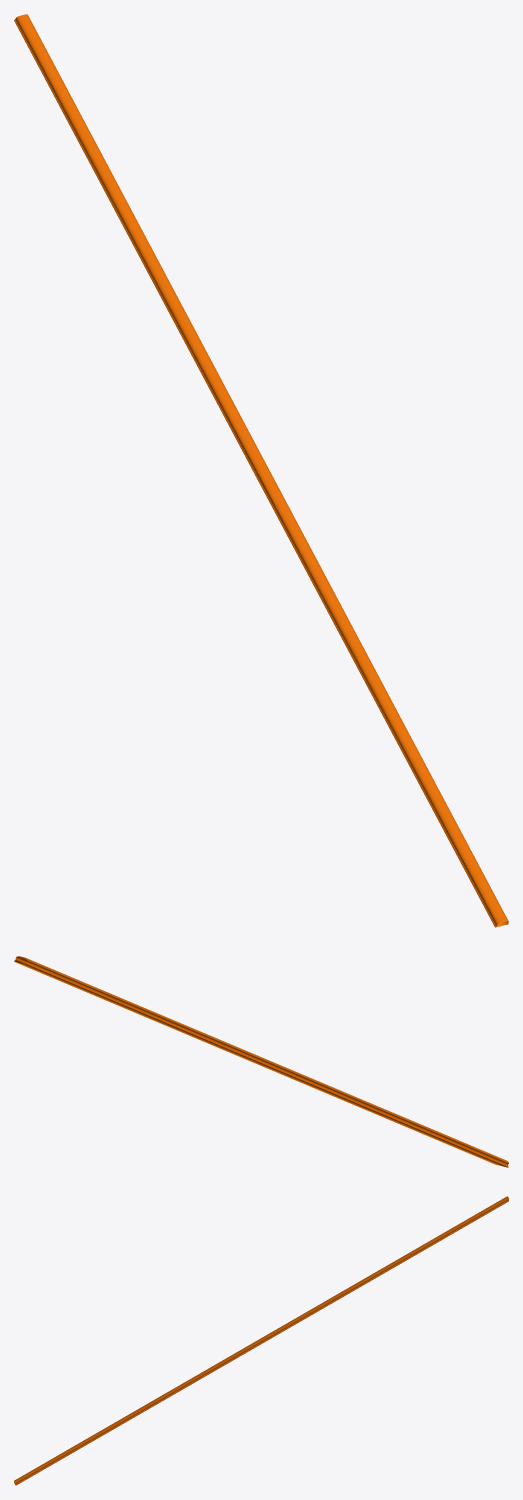
The model's file is RailingTop.fbx.
The picture shows the model from 3 angles, top to bottom: view 1: azimuth 30°, elevation 25°; view 2: azimuth 150°, elevation 25°; view 3: azimuth 270°, elevation 25°; orthographic projection. The views are drawn at different scales.
Visible parts, largest first — view 1: RailingTop; view 2: RailingTop; view 3: RailingTop.
Boxes of the visible parts, x1=… form: RailingTop: x1=14, y1=14, x2=508, y2=927; RailingTop: x1=14, y1=956, x2=508, y2=1167; RailingTop: x1=14, y1=1196, x2=508, y2=1485.
Size of the model in its own units: 9.08 by 364 by 569.
